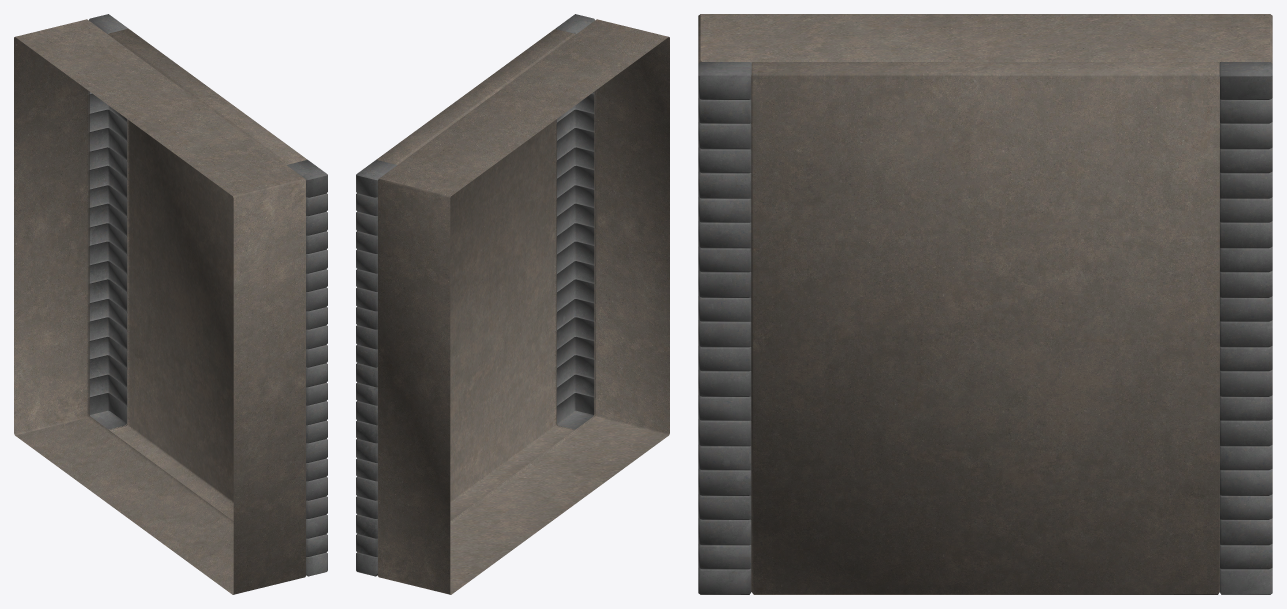
The model's file is cP_Pathway02_v02_Straight.dae.
3 renders of one model, left to right at view 1: azimuth 30°, elevation 25°; view 2: azimuth 150°, elevation 25°; view 3: azimuth 270°, elevation 25°, orthographic. The views are drawn at different scales.
Visible parts, largest first — view 1: cP_Pathway02_v02_Straight.001; view 2: cP_Pathway02_v02_Straight.001; view 3: cP_Pathway02_v02_Straight.001.
Boxes of the visible parts, box(x1,y1,x2,y2) form: cP_Pathway02_v02_Straight.001: box(14, 14, 327, 594); cP_Pathway02_v02_Straight.001: box(356, 14, 669, 594); cP_Pathway02_v02_Straight.001: box(698, 14, 1272, 594).
Size of the model in its own units: 0.5 by 2 by 2.01.
